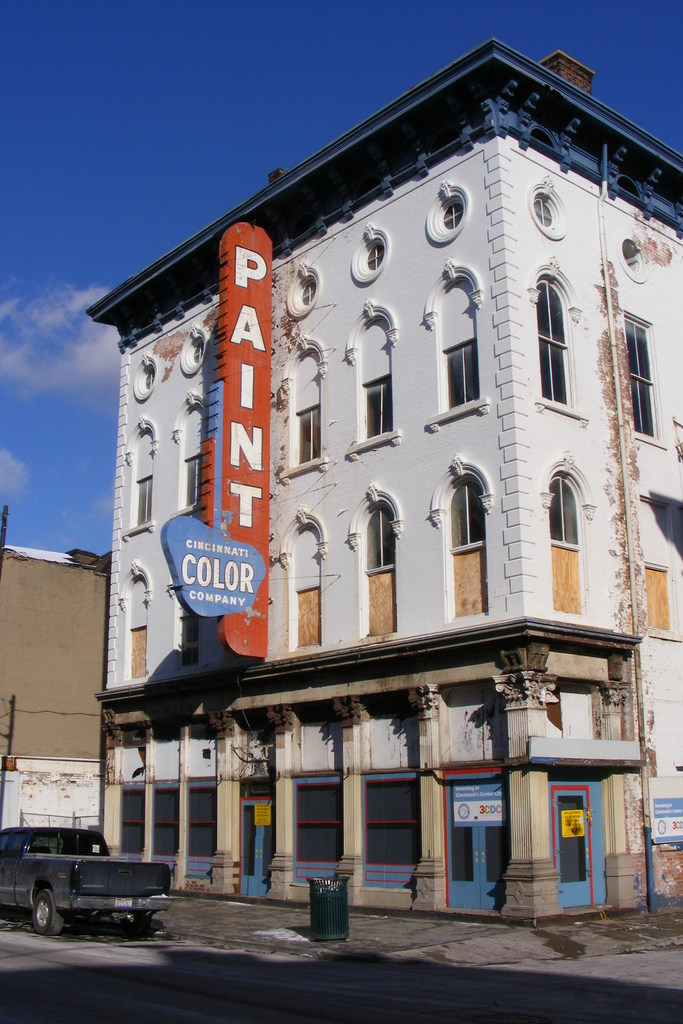Car: (6, 831, 162, 941)
